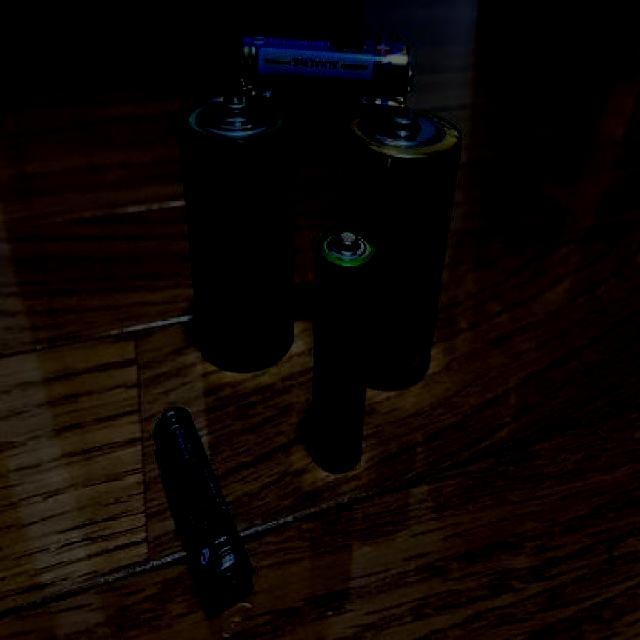AA: (304, 223, 378, 474), (237, 28, 417, 112)
AAA: (152, 403, 257, 609)
